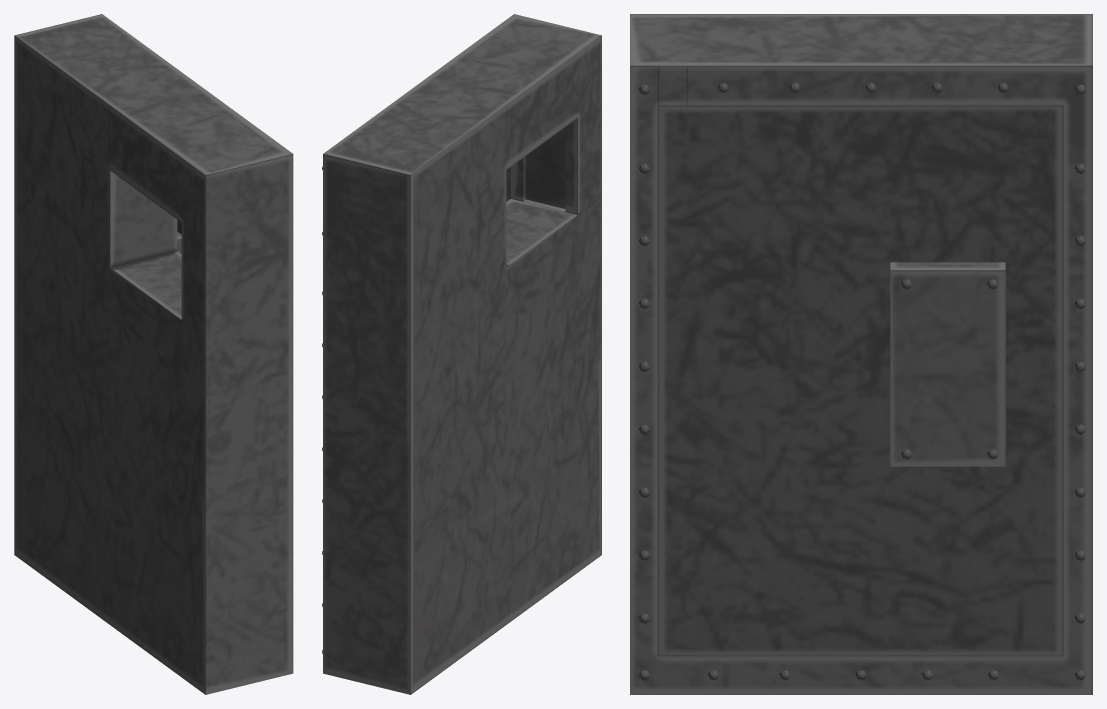
File: PorteBlindeeOnly.fbx
The picture shows the model from 3 angles, left to right: view 1: azimuth 30°, elevation 25°; view 2: azimuth 150°, elevation 25°; view 3: azimuth 270°, elevation 25°; orthographic projection. The views are drawn at different scales.
Visible parts, largest first — view 1: Porte; view 2: Porte; view 3: Porte.
Boxes of the visible parts, box(x1,y1,x2,y2) form: Porte: box(14, 14, 293, 694); Porte: box(322, 14, 601, 694); Porte: box(630, 14, 1092, 694).
Size of the model in its own units: 63.2 by 300 by 200.
1 material, 1 textured.
